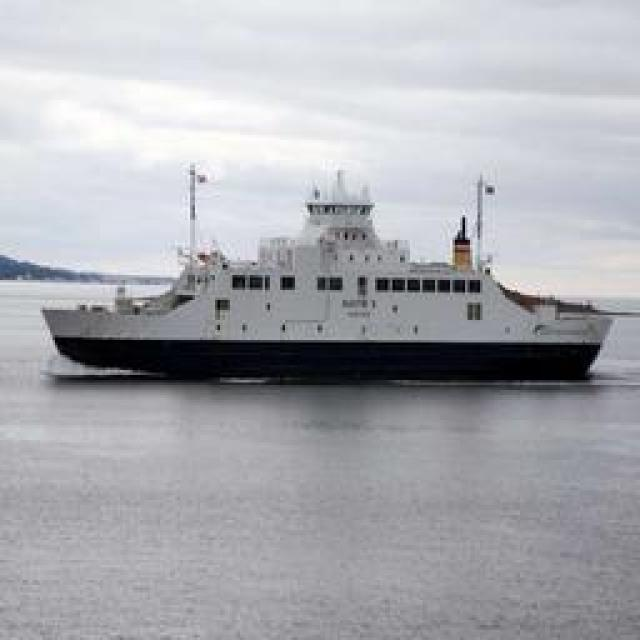ship2: (42, 169, 622, 386)
